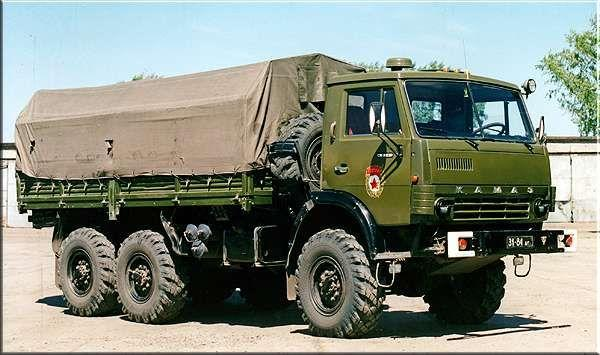ambulance: (19, 55, 553, 334)
